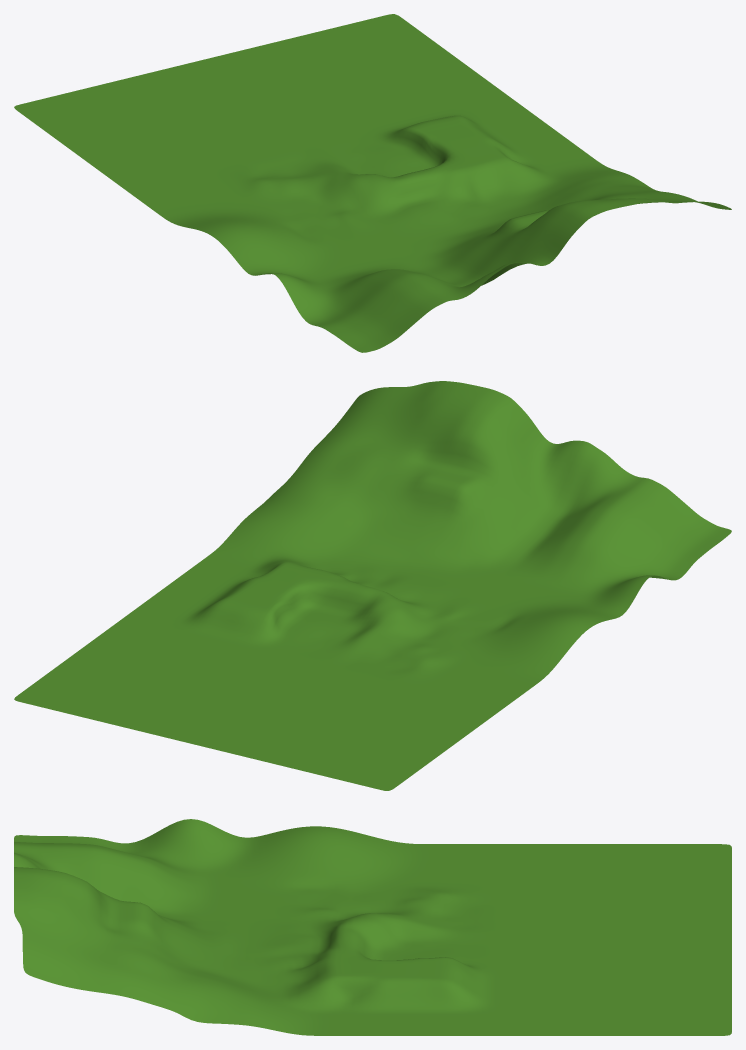
Rendered from Terrain.fbx.
The picture shows the model from 3 angles, top to bottom: view 1: azimuth 30°, elevation 25°; view 2: azimuth 150°, elevation 25°; view 3: azimuth 270°, elevation 25°; orthographic projection. The views are drawn at different scales.
Visible parts, largest first — view 1: Suelo; view 2: Suelo; view 3: Suelo.
Boxes of the visible parts, x1,y1,x2,y2 form: Suelo: (14,14,731,352); Suelo: (14,381,731,790); Suelo: (14,819,731,1035).
Size of the model in its own units: 354 by 82.47 by 559.
